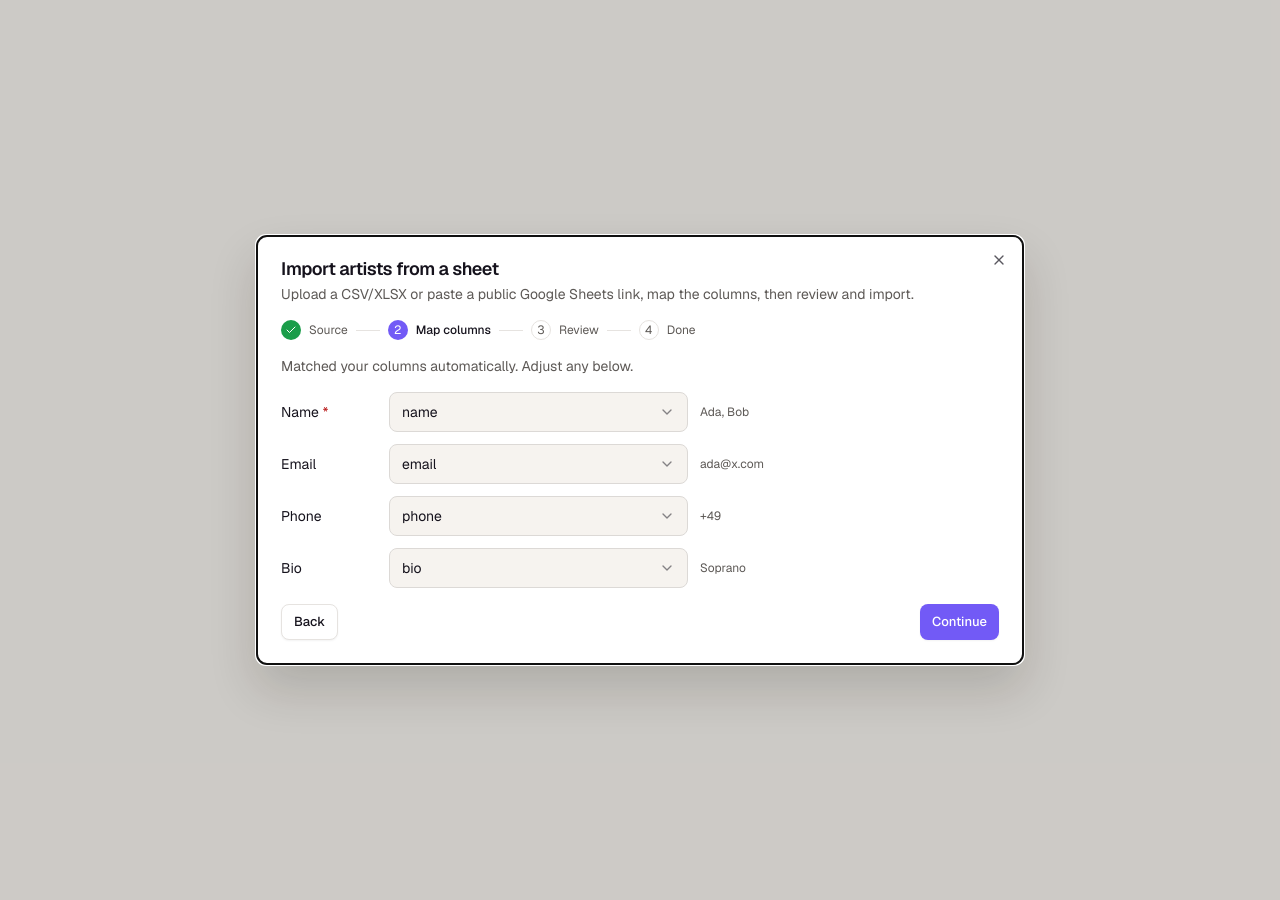
Test: ArtistImportDialog › drives source → map → review → done with dedup and commit
Earlier steps of the test are not shown.
Later steps or results of the test are not shown.
Check: the text "Matched your columns automatically. Adjust any below." is shown, box [281,357,633,375]
Click the button "Continue". click: coordinates (960, 622)
box: [920,604,999,640]
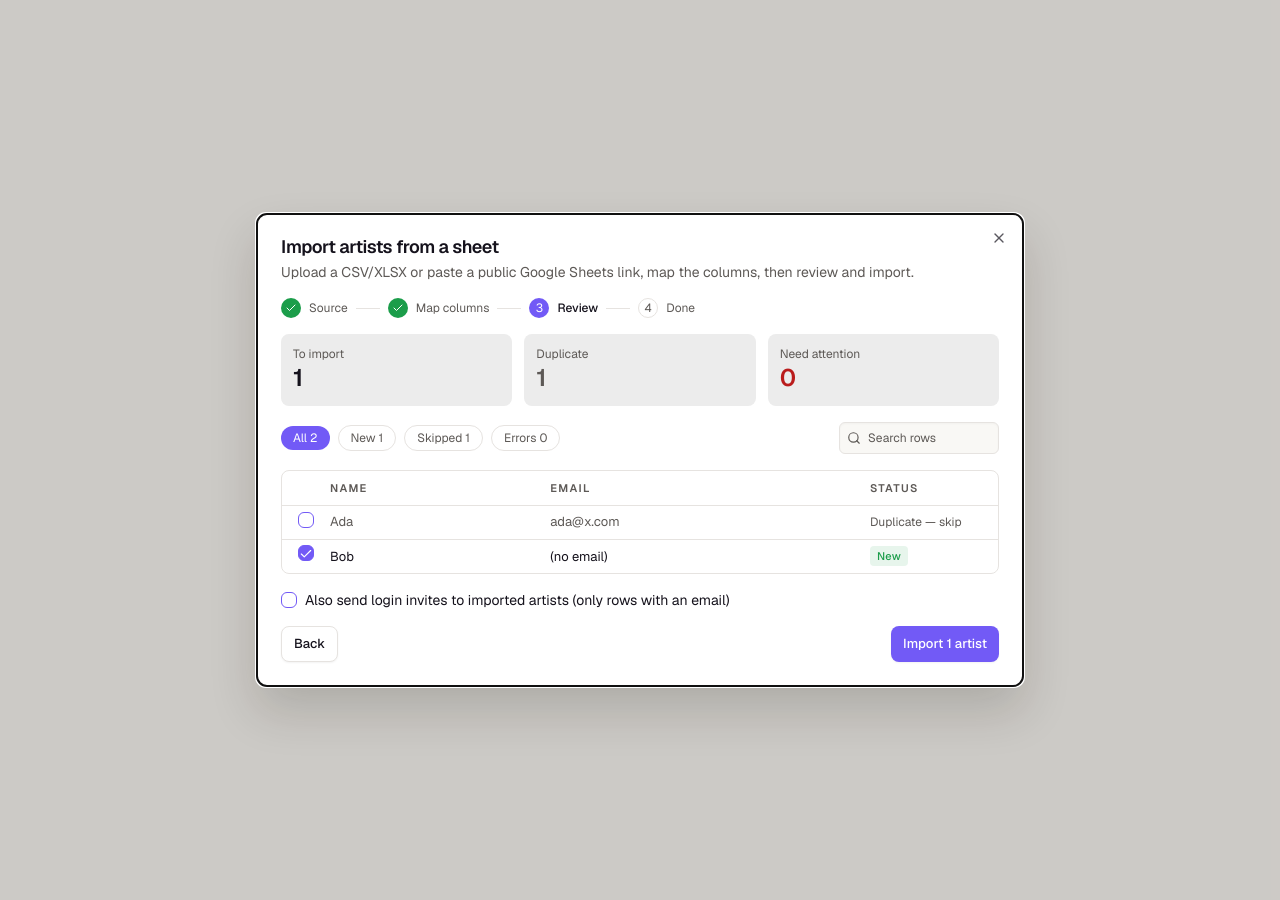
Check: the text "To import" is shown, box [293,346,344,362]
Check: the text "New" is shown, box [870,546,908,566]
Check: the text "Duplicate — skip" is shown, box [870,514,962,530]
Click the button "Import 1 artist". click: coordinates (945, 644)
box: [891,626,999,662]
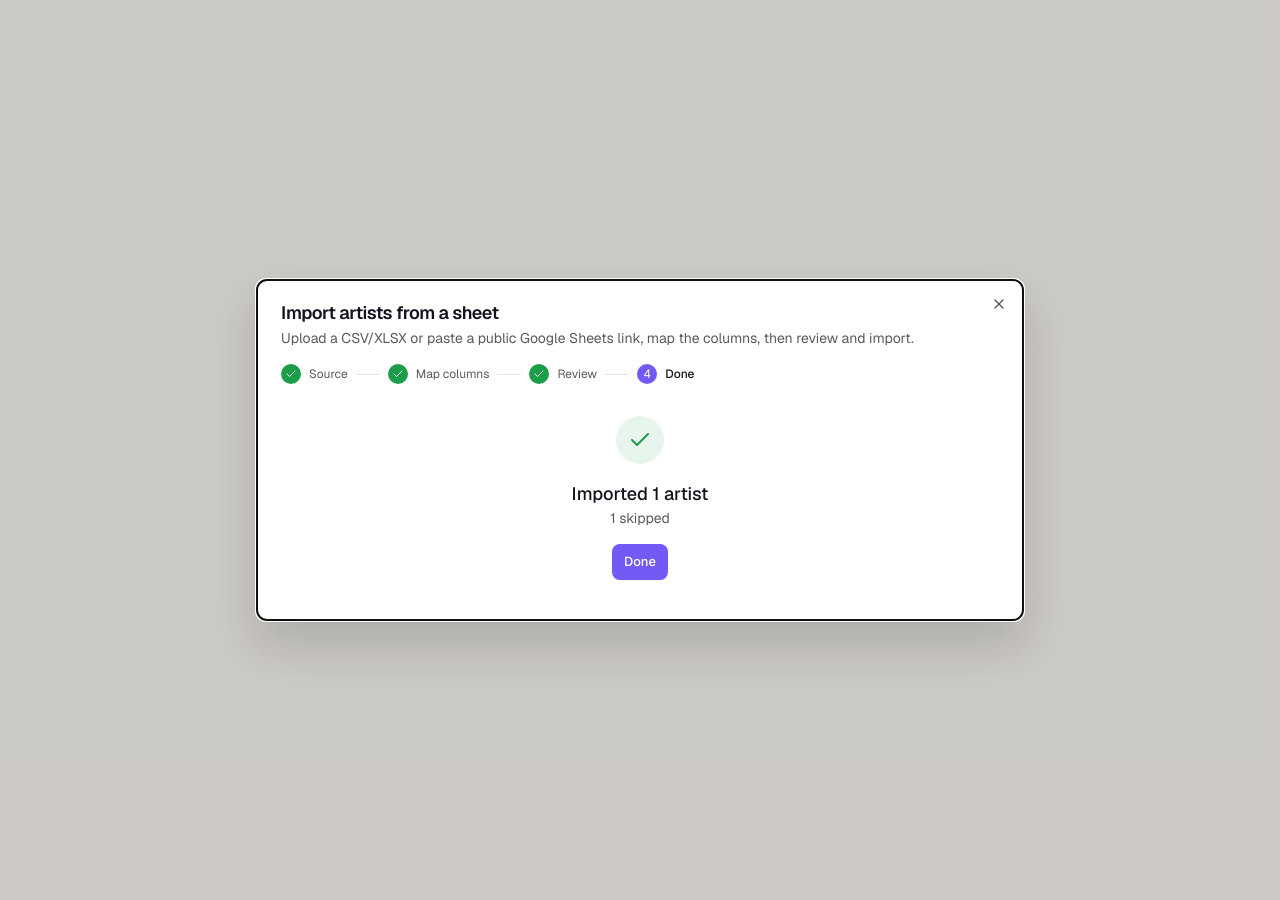
Check: the text "1 skipped" is shown, box [610,509,670,527]
Check: the text "Imported 1 artist" is shown, box [572,482,708,505]
